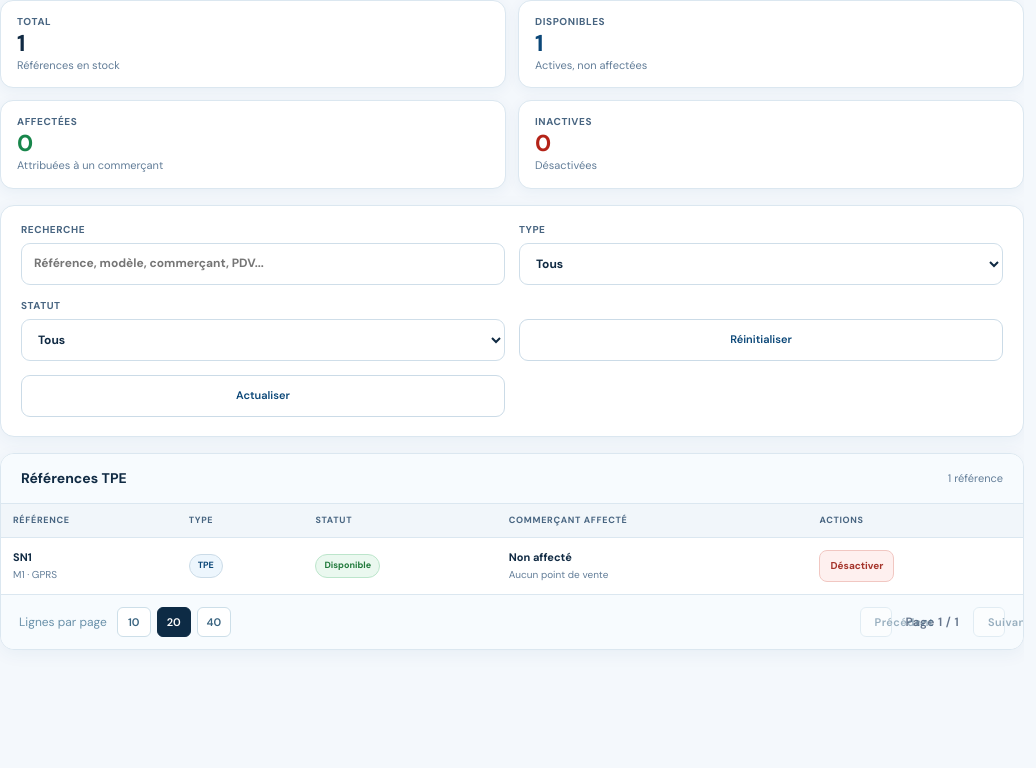
Scenario: SupervisorTpeStockPage › desactive une reference active
Click the button "Désactiver".
click(857, 566)  # box top-left (820, 550), bottom-right (894, 582)
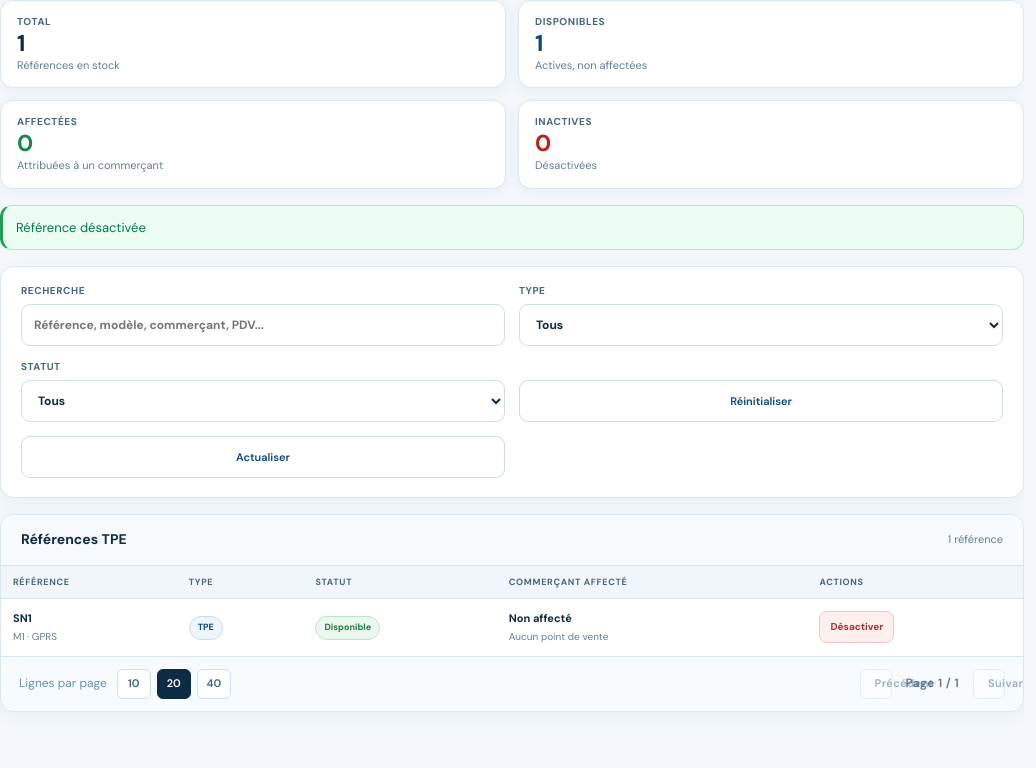
Check: the text "Référence désactivée" is shown, box top-left (0, 205), bottom-right (1024, 250)
